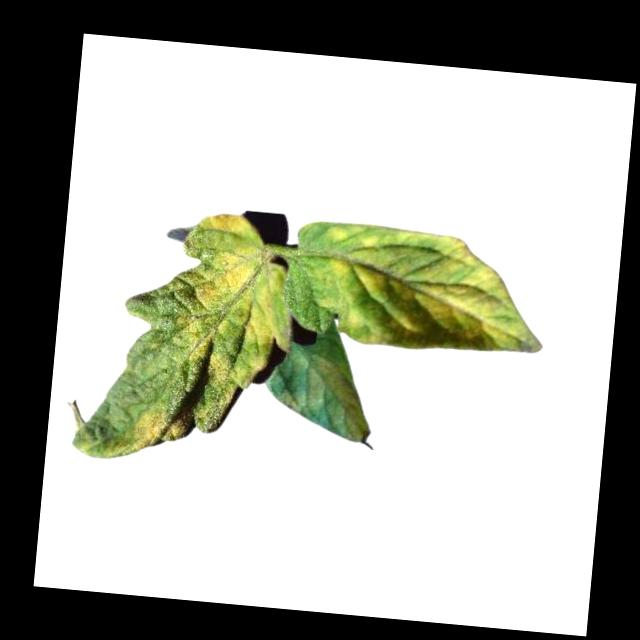Leaf_Mold: (313, 223, 553, 360), (170, 208, 301, 394), (298, 353, 376, 443), (109, 404, 191, 460)
